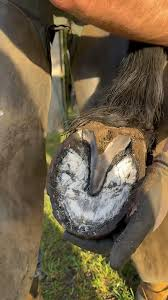horsesole: (47, 128, 144, 240)
